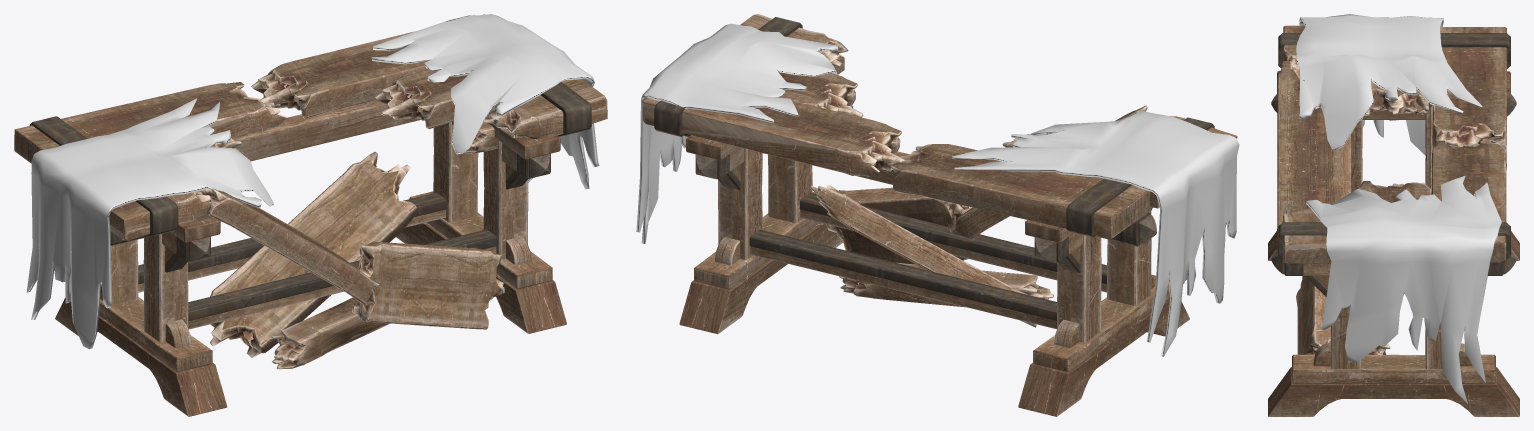
The picture shows the model from 3 angles, left to right: view 1: azimuth 30°, elevation 25°; view 2: azimuth 150°, elevation 25°; view 3: azimuth 270°, elevation 25°; orthographic projection. The views are drawn at different scales.
Visible parts, largest first — view 1: SM_DR_Table_B_02_01_LOD0; view 2: SM_DR_Table_B_02_01_LOD0; view 3: SM_DR_Table_B_02_01_LOD0.
Boxes of the visible parts, bbox=[...] form: SM_DR_Table_B_02_01_LOD0: bbox=[14, 14, 607, 416]; SM_DR_Table_B_02_01_LOD0: bbox=[636, 14, 1239, 416]; SM_DR_Table_B_02_01_LOD0: bbox=[1268, 14, 1519, 416].
Bounding box in the file's own units: 2.92 × 1.23 × 1.3.
4 materials, 3 textured.
